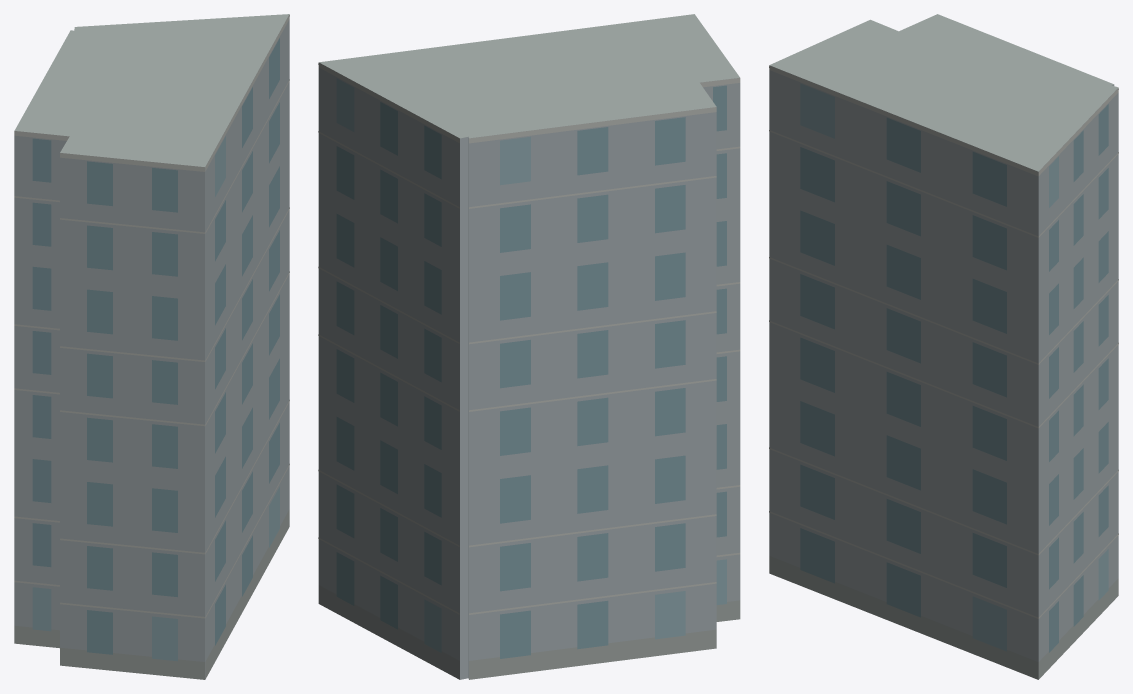
File: survey-upis-32975810.glb
The picture shows the model from 3 angles, left to right: view 1: azimuth 30°, elevation 25°; view 2: azimuth 150°, elevation 25°; view 3: azimuth 270°, elevation 25°; orthographic projection. The views are drawn at different scales.
Visible parts, largest first — view 1: survey-upis-32975810.tmp; view 2: survey-upis-32975810.tmp; view 3: survey-upis-32975810.tmp.
Part boxes in pixels (x1,y1,x2,y2): survey-upis-32975810.tmp: (14,14,289,679); survey-upis-32975810.tmp: (318,14,740,679); survey-upis-32975810.tmp: (769,14,1118,679).
Size of the model in its own units: 17.26 by 25.9 by 16.16.
